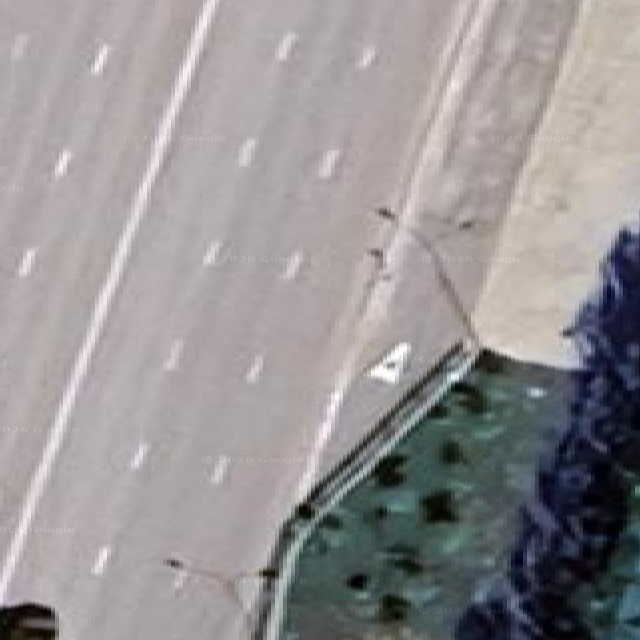car: (0, 603, 56, 639)
